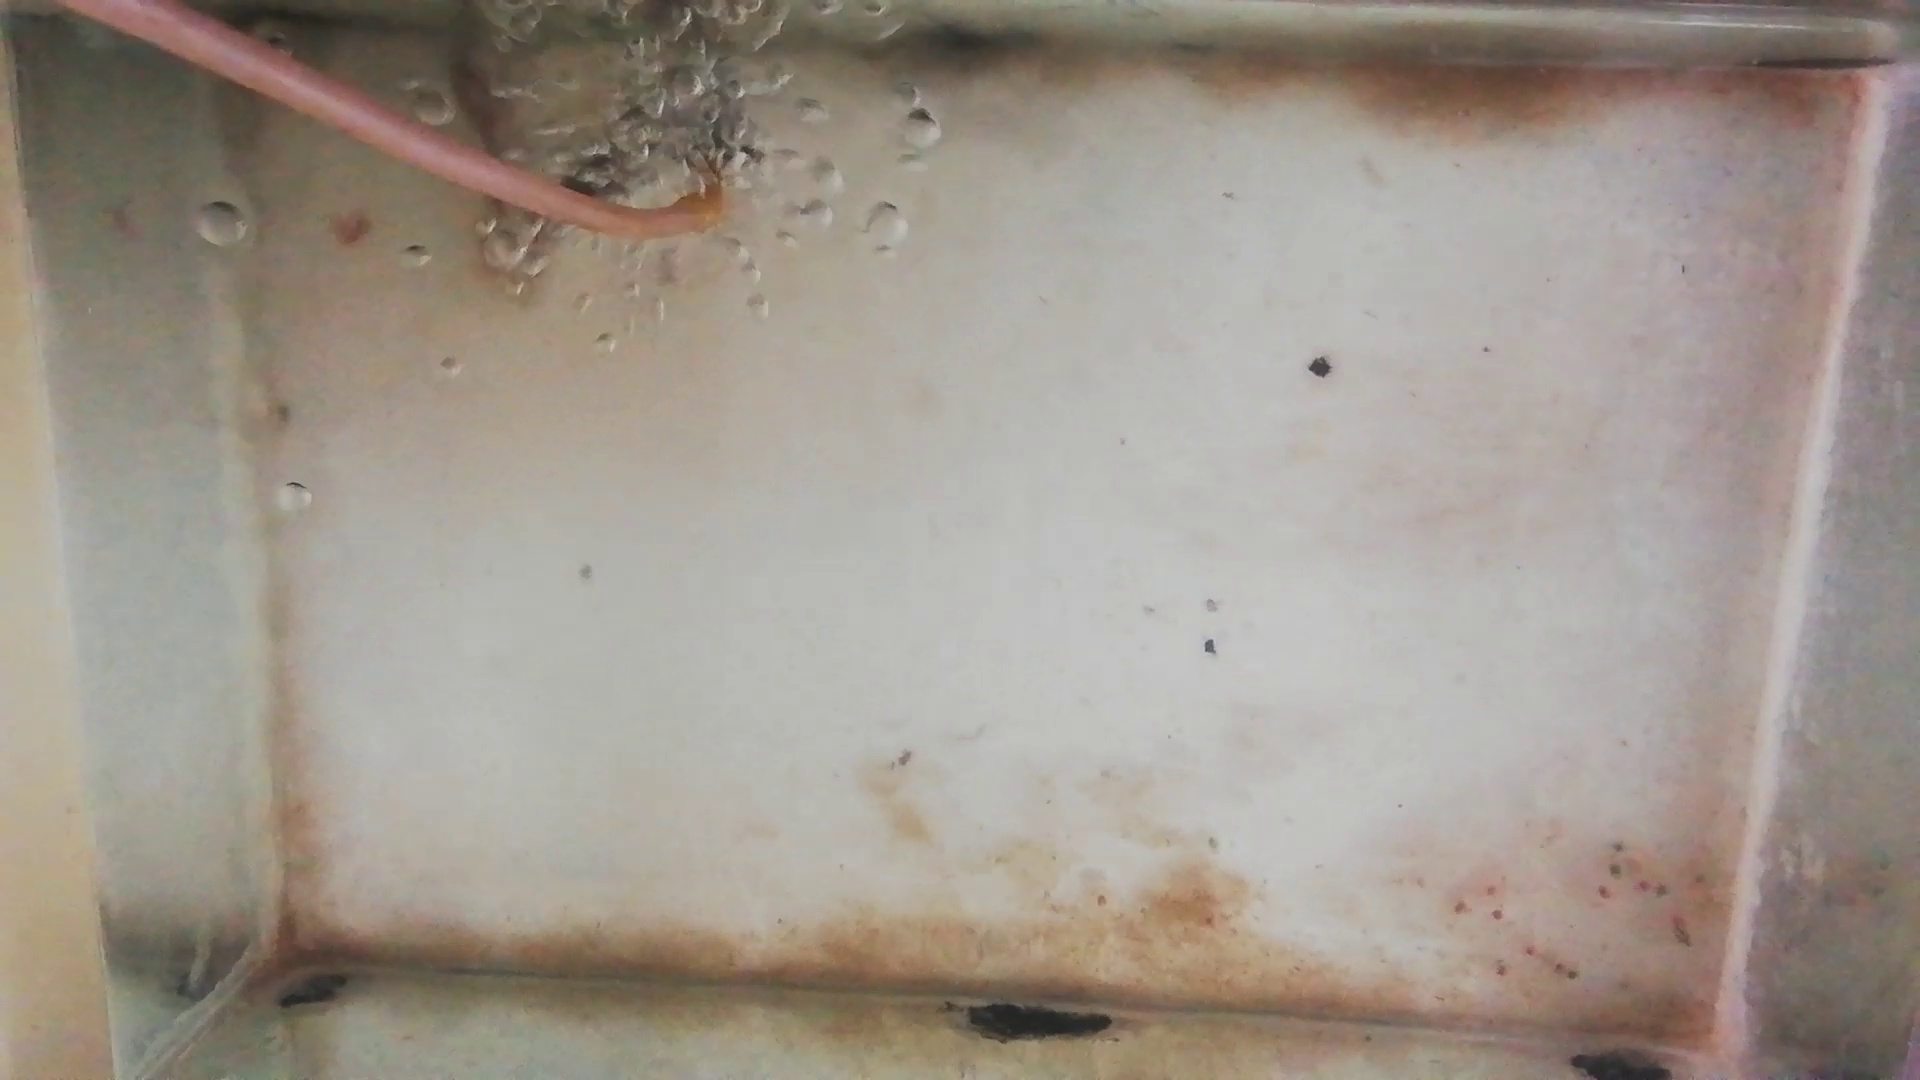fish: (458, 24, 535, 266), (563, 141, 667, 193)
